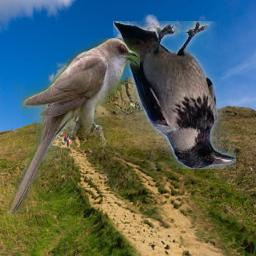Crow: (113, 21, 236, 169)
Cuckoo: (9, 38, 140, 215)
